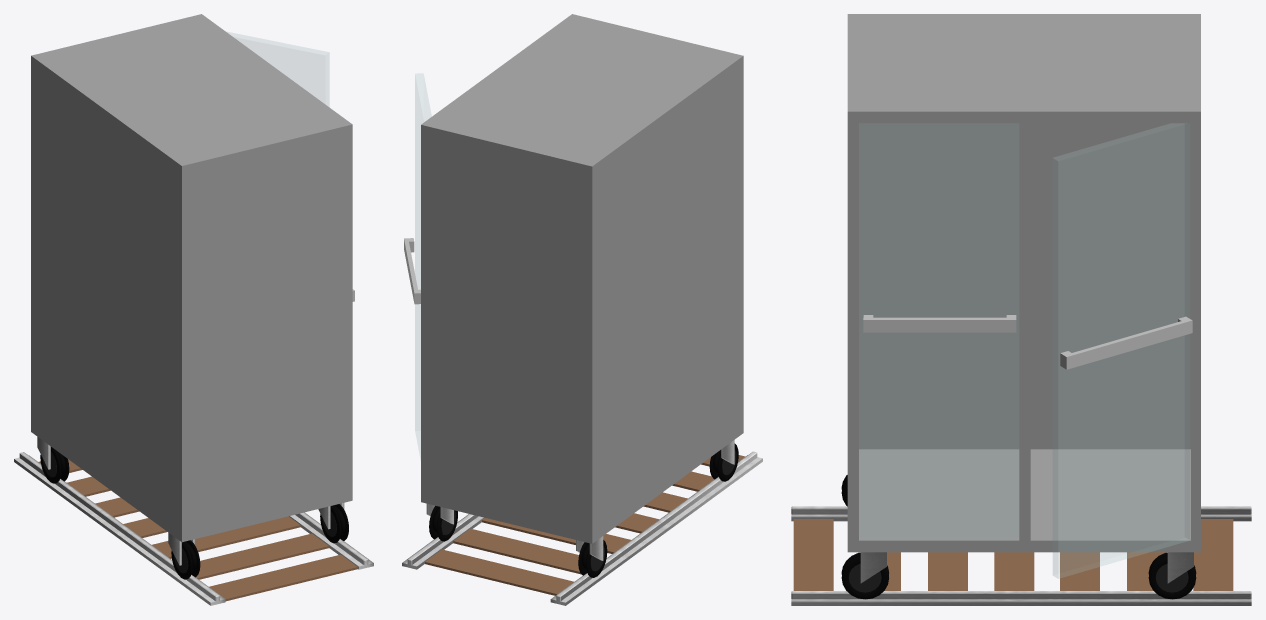
Rendered from Closet.fbx.
3 renders of one model, left to right at view 1: azimuth 30°, elevation 25°; view 2: azimuth 150°, elevation 25°; view 3: azimuth 270°, elevation 25°, orthographic. The views are drawn at different scales.
Visible parts, largest first — view 1: Basis, Planken, Rail1, Deur1, Rail; view 2: Basis, Planken, Rail1, Deur1, Rail, Hendel1; view 3: Basis, Deur, Deur1, Planken, Rail, Hendel, Hendel1, Rail1, Wiel3 (×2), pCube3 (×2).
Boxes of the visible parts, x1,y1,x2,y2 form: Basis: (31,14,352,542); Planken: (39,459,357,601); Rail1: (14,452,225,605); Deur1: (227,32,329,106); Rail: (289,512,373,569); Basis: (421,14,743,543); Planken: (425,455,744,595); Rail1: (550,451,762,605); Deur1: (415,73,431,458); Rail: (402,514,484,569); Hendel1: (404,238,420,304); Basis: (847,14,1200,552); Deur: (859,123,1018,536); Deur1: (1053,123,1189,578); Planken: (793,519,1233,590); Rail: (791,591,1251,605); Hendel: (863,315,1016,332); Hendel1: (1060,316,1192,369); Rail1: (791,506,1251,521); Wiel3 (×2): (841,557,1196,599); pCube3 (×2): (860,552,1193,583).
Bounding box in the file's own units: 17.24 × 28.47 × 23.95.
7 materials, 1 textured.
